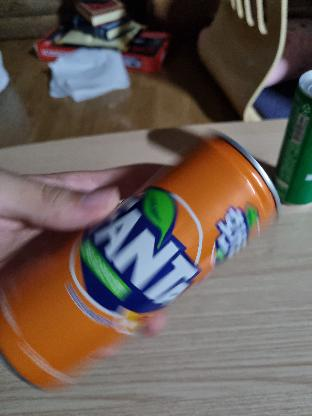Can: (0, 133, 287, 397)
